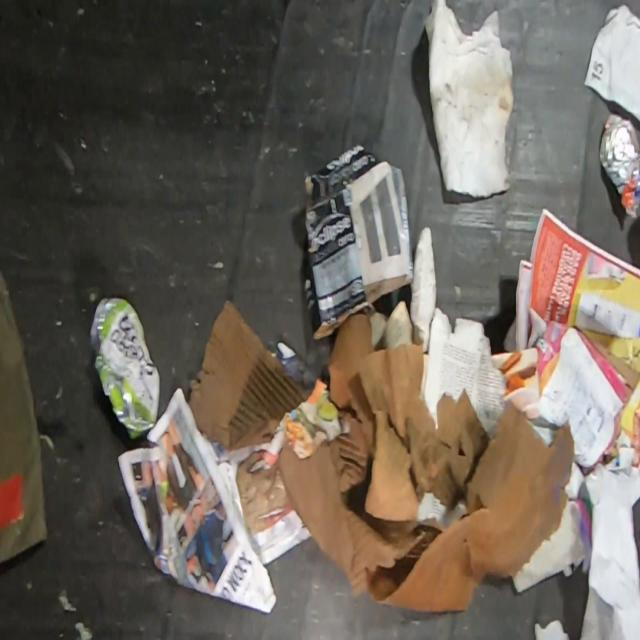cardboard: (356, 343, 492, 546), (304, 143, 416, 340), (186, 299, 310, 454)
metal: (86, 297, 160, 442), (597, 111, 640, 218)
soft_plastic: (0, 269, 49, 561)
